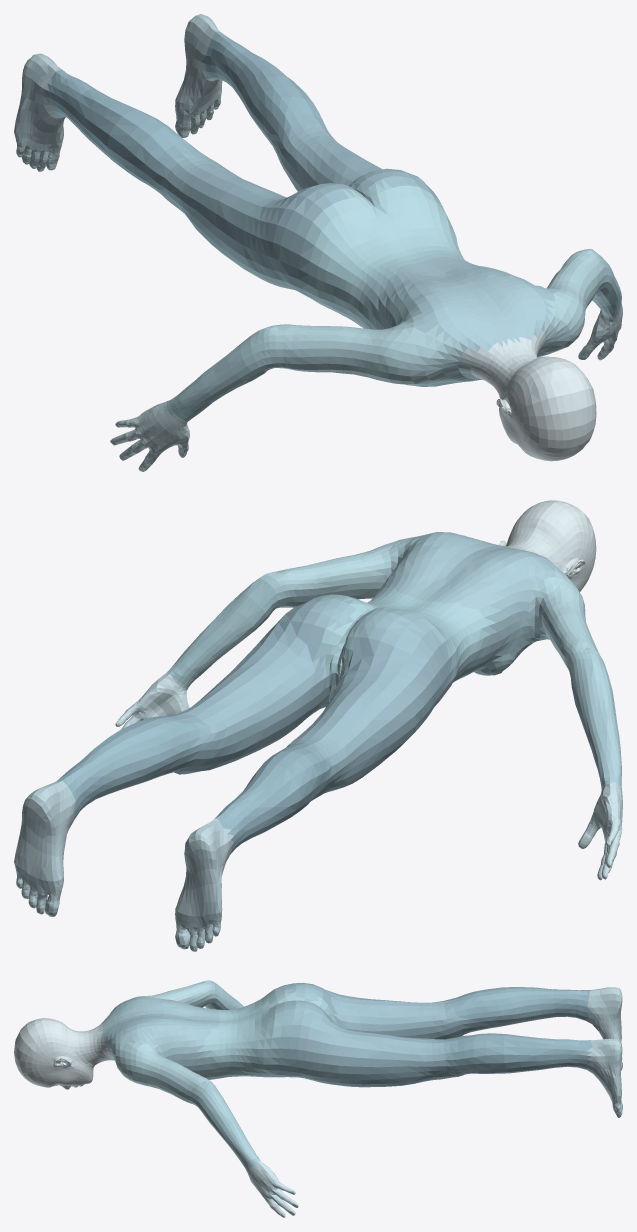
File: crew_C5.glb
3 views of the same model, one above another, from view 1: azimuth 30°, elevation 25°; view 2: azimuth 150°, elevation 25°; view 3: azimuth 270°, elevation 25° (orthographic). The views are drawn at different scales.
Visible parts, largest first — view 1: chest, abdomen, right_thigh, right_upper_arm, head, right_lower_leg, left_lower_leg, right_foot, left_thigh, left_upper_arm, right_forearm, left_foot (+5 smaller); view 2: right_thigh, left_thigh, abdomen, left_lower_leg, chest, right_lower_leg, left_foot, right_foot, left_upper_arm, left_forearm, right_forearm, head (+5 smaller); view 3: left_thigh, chest, abdomen, left_lower_leg, right_lower_leg, right_thigh, head, left_upper_arm, left_forearm, left_foot, right_foot, left_hand (+4 smaller).
Part boxes in pixels (box(x1,y1,x2,y2)): chest: box(299, 178, 468, 329); abdomen: box(373, 256, 556, 386); right_thigh: box(159, 153, 315, 299); right_upper_arm: box(264, 322, 479, 385); head: box(496, 356, 596, 461); right_lower_leg: box(44, 69, 208, 194); left_lower_leg: box(201, 31, 326, 145); right_foot: box(14, 53, 65, 171); left_thigh: box(273, 121, 436, 196); left_upper_arm: box(537, 249, 604, 357); right_forearm: box(163, 325, 276, 420); left_foot: box(175, 14, 222, 137); right_thigh: box(286, 626, 453, 798); left_thigh: box(174, 603, 330, 774); abdomen: box(379, 532, 556, 675); left_lower_leg: box(56, 713, 211, 819); chest: box(320, 587, 497, 708); right_lower_leg: box(214, 742, 332, 854); left_foot: box(14, 780, 75, 916); right_foot: box(175, 818, 233, 951); left_upper_arm: box(269, 537, 412, 607); left_forearm: box(167, 572, 279, 689); right_forearm: box(569, 649, 621, 788); head: box(499, 500, 596, 591); left_thigh: box(271, 1005, 457, 1087); chest: box(195, 985, 335, 1079); abdomen: box(99, 997, 219, 1079); left_lower_leg: box(444, 1033, 592, 1076); right_lower_leg: box(444, 987, 592, 1036); right_thigh: box(305, 983, 470, 1039); head: box(14, 1018, 97, 1089); left_upper_arm: box(107, 1034, 211, 1105); left_forearm: box(195, 1081, 260, 1168); left_foot: box(586, 1038, 622, 1117); right_foot: box(584, 987, 622, 1070); left_hand: box(245, 1160, 298, 1217).
Bounding box in the file's own units: 1.07 × 0.4591 × 1.7.
